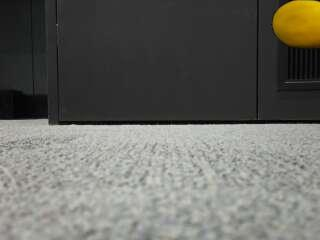lemon: (273, 0, 320, 48)
